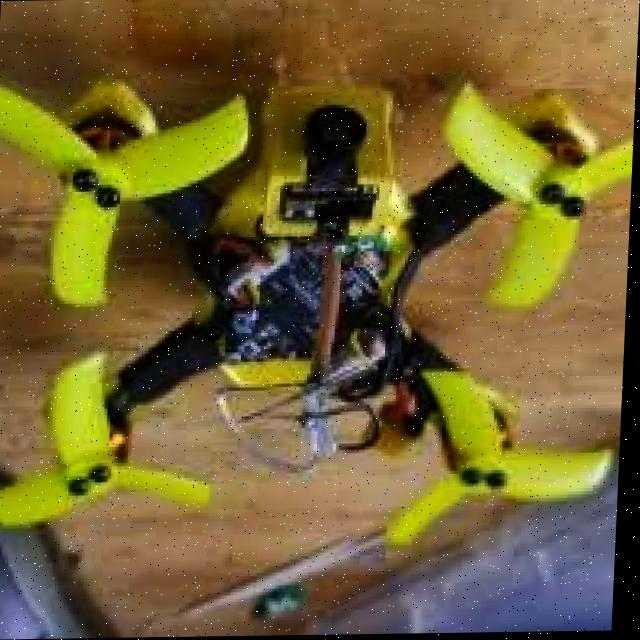drone: (0, 44, 638, 566)
